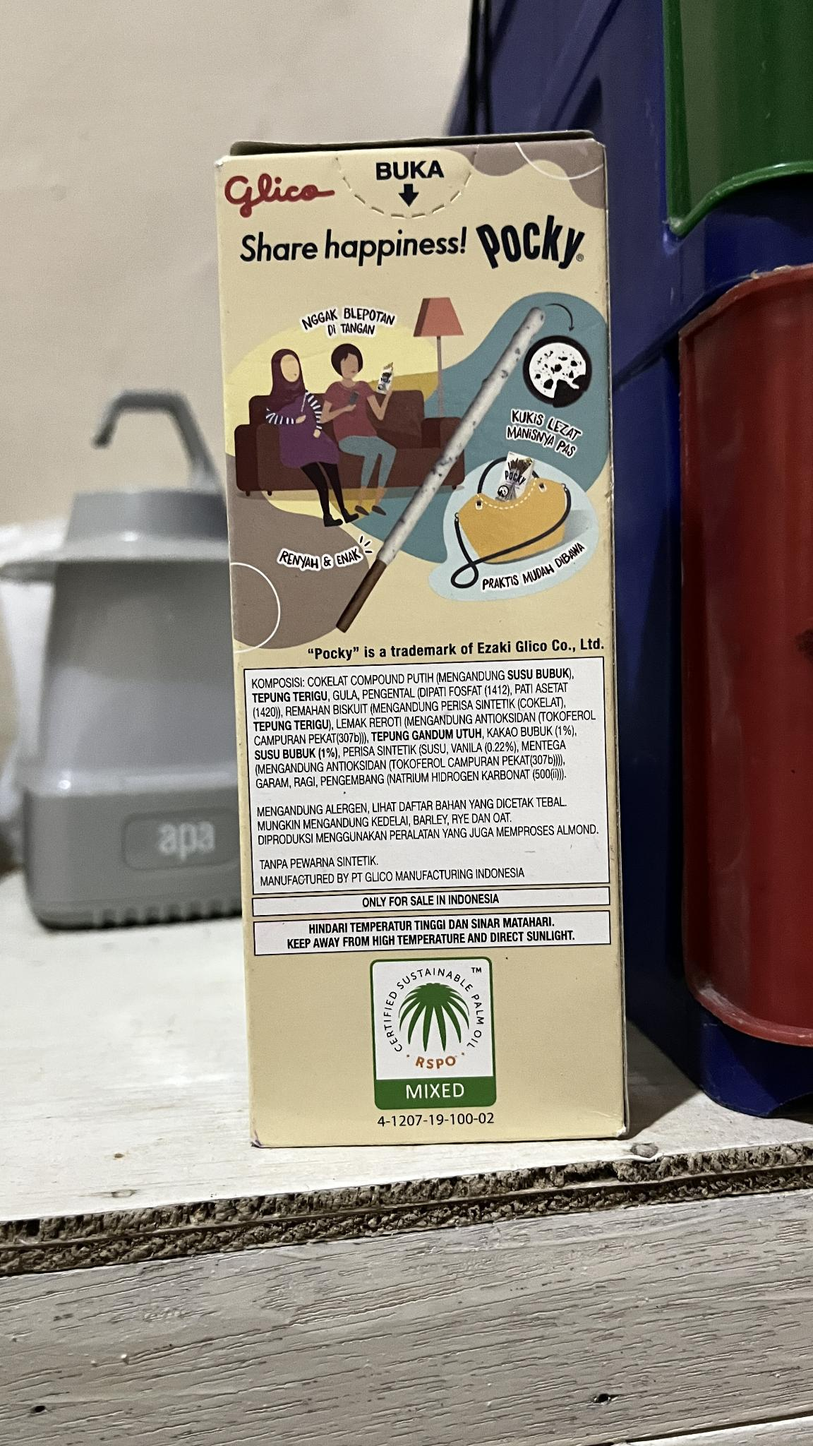Kertas: (219, 136, 638, 1155)
